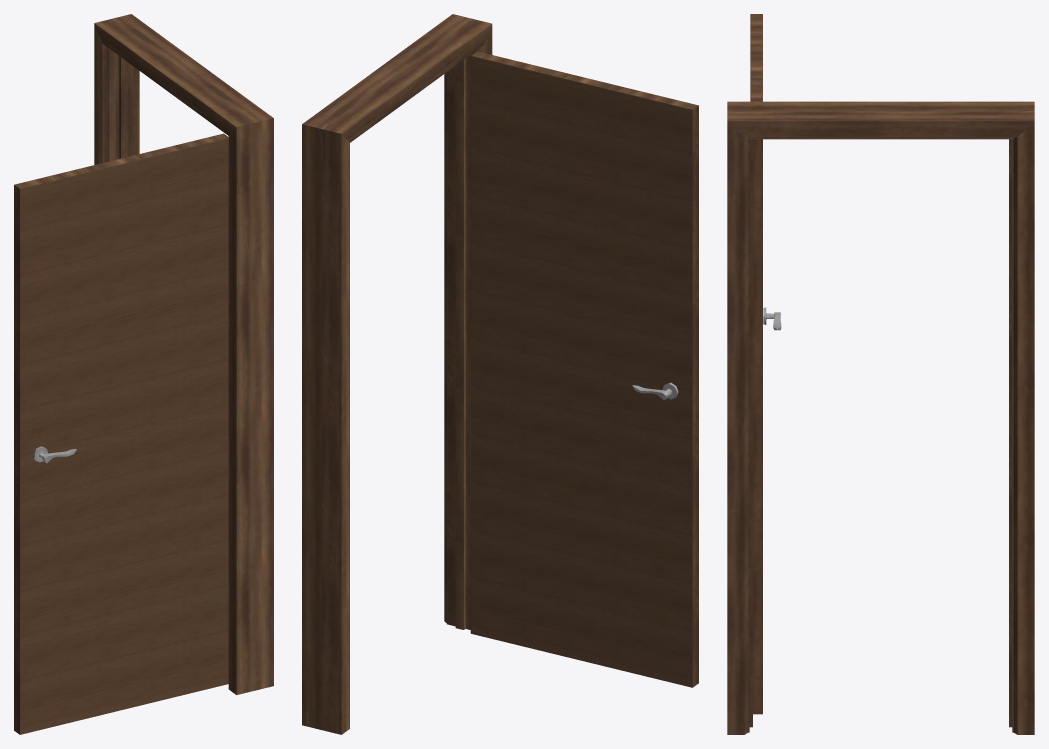
The model's file is Door0022open.obj.
The picture shows the model from 3 angles, left to right: view 1: azimuth 30°, elevation 25°; view 2: azimuth 150°, elevation 25°; view 3: azimuth 270°, elevation 25°; orthographic projection. The views are drawn at different scales.
Size of the model in its own units: 0.951 by 2.12 by 0.964.
Materials: 1 (1 with a texture image).
